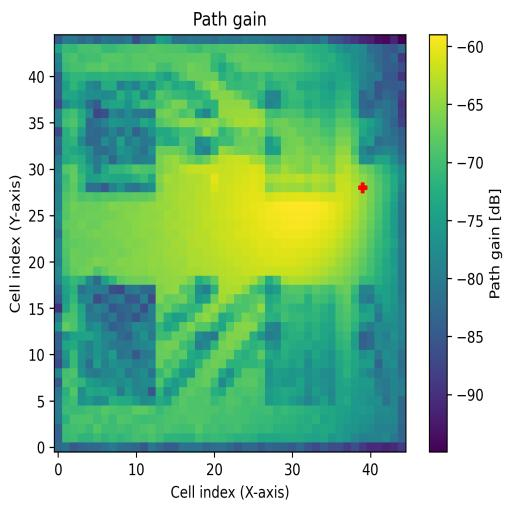Concrete: (265, 72, 336, 192)
Glass: (86, 82, 156, 192)
Metal: (265, 285, 336, 406)
Wood: (78, 286, 157, 406)
